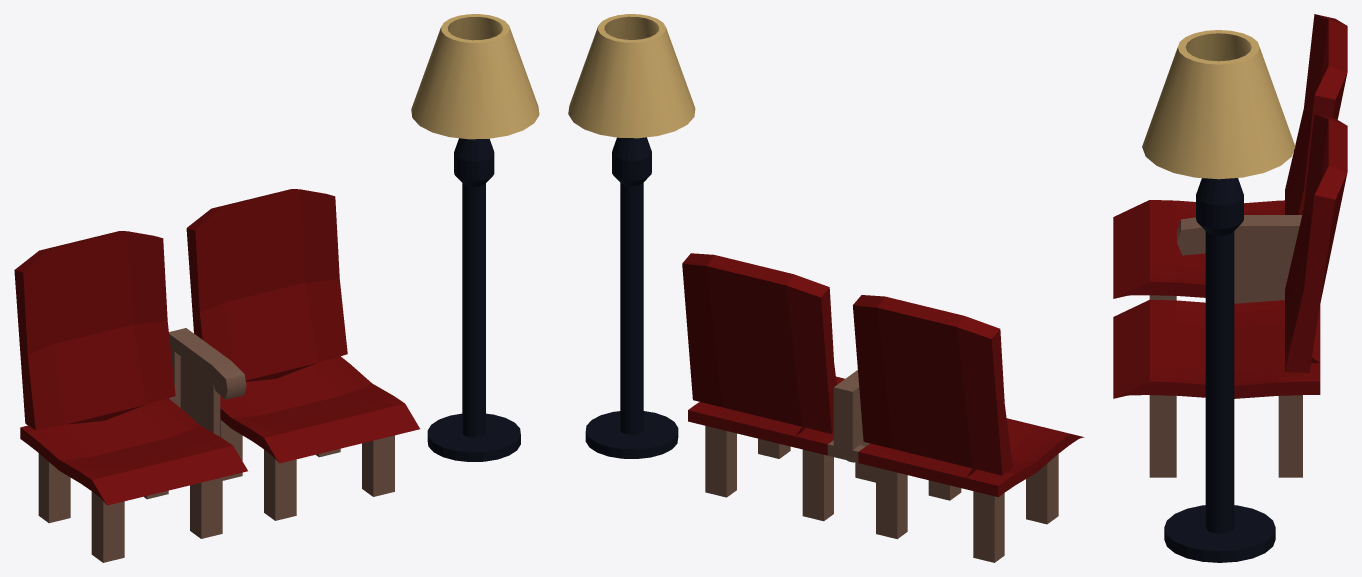
Rendered from BedRoomSeatingSet.dae.
3 views of the same model, side by side, from view 1: azimuth 30°, elevation 25°; view 2: azimuth 150°, elevation 25°; view 3: azimuth 270°, elevation 25° (orthographic). The views are drawn at different scales.
Parts seen in each view (by area): view 1: polySurface144; view 2: polySurface144; view 3: polySurface144.
Part boxes in pixels (bbox=[...]): polySurface144: bbox=[14, 14, 539, 562]; polySurface144: bbox=[568, 14, 1084, 562]; polySurface144: bbox=[1113, 14, 1347, 562].
Bounding box in the file's own units: 21.53 × 18.25 × 7.84.
